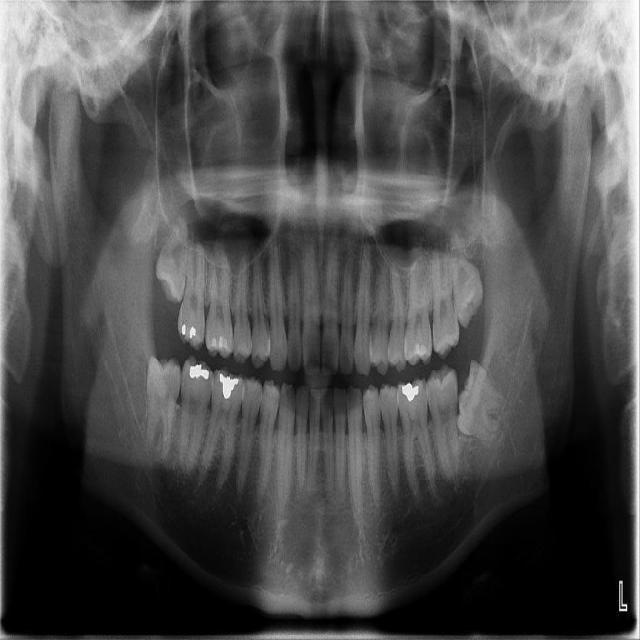3M ESPE Implant: (152, 211, 193, 304)
52: (203, 363, 252, 420), (173, 353, 221, 409), (393, 375, 433, 426), (176, 293, 208, 353), (204, 306, 236, 360)
73: (594, 580, 594, 590)
BioHorizons Implant: (431, 222, 460, 361)
BioLife Implant: (443, 207, 488, 331)
Biomet 3i Implant: (449, 358, 516, 444)
Blue Sky Bio Implant: (425, 362, 463, 482)
Caries: (177, 229, 207, 353)
Implant: (178, 355, 215, 477)
Keystone Dental Implant: (137, 354, 184, 463)
